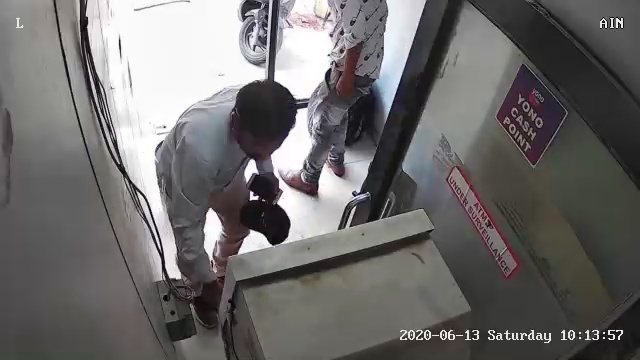open: (338, 1, 638, 354)
